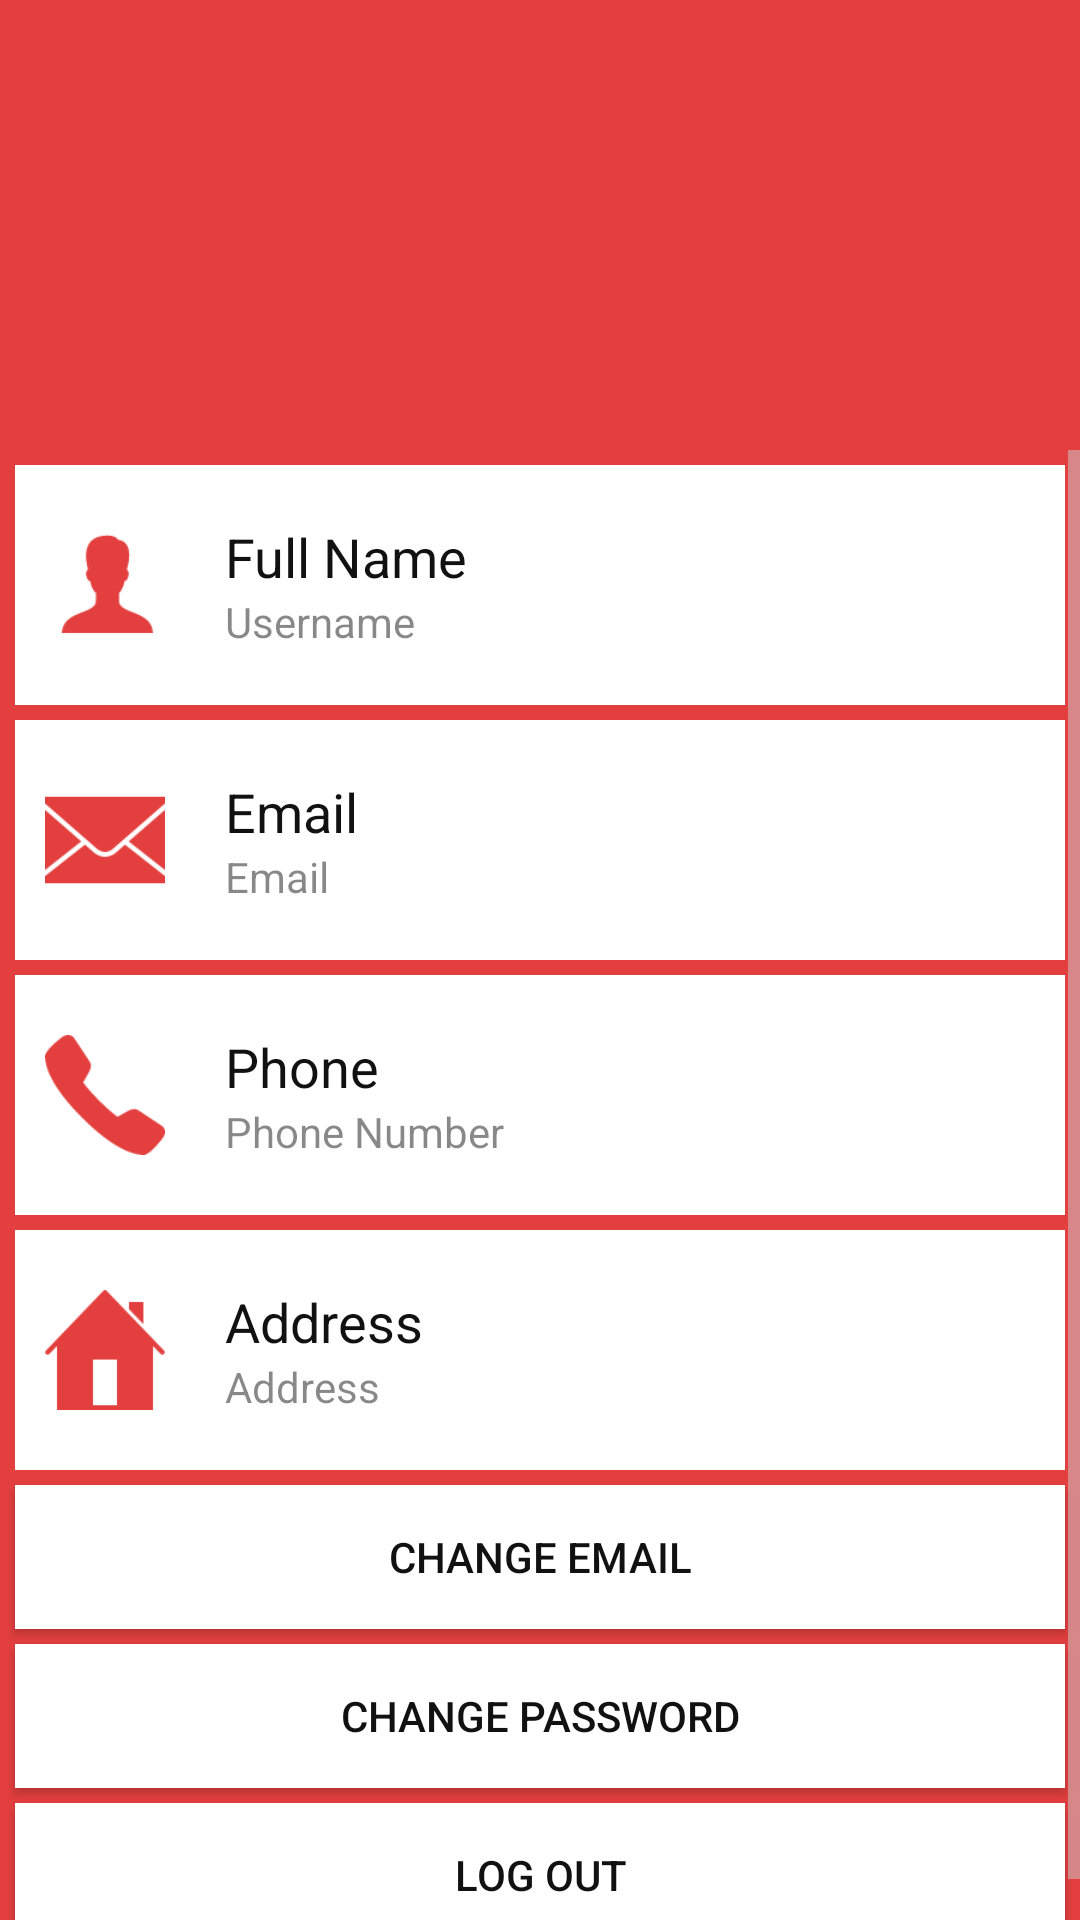

Named icons in this screenshot (1080x1920) and their bounding boxes, box(x1, y1, x2, y2):
home: box(45, 1290, 165, 1410)
